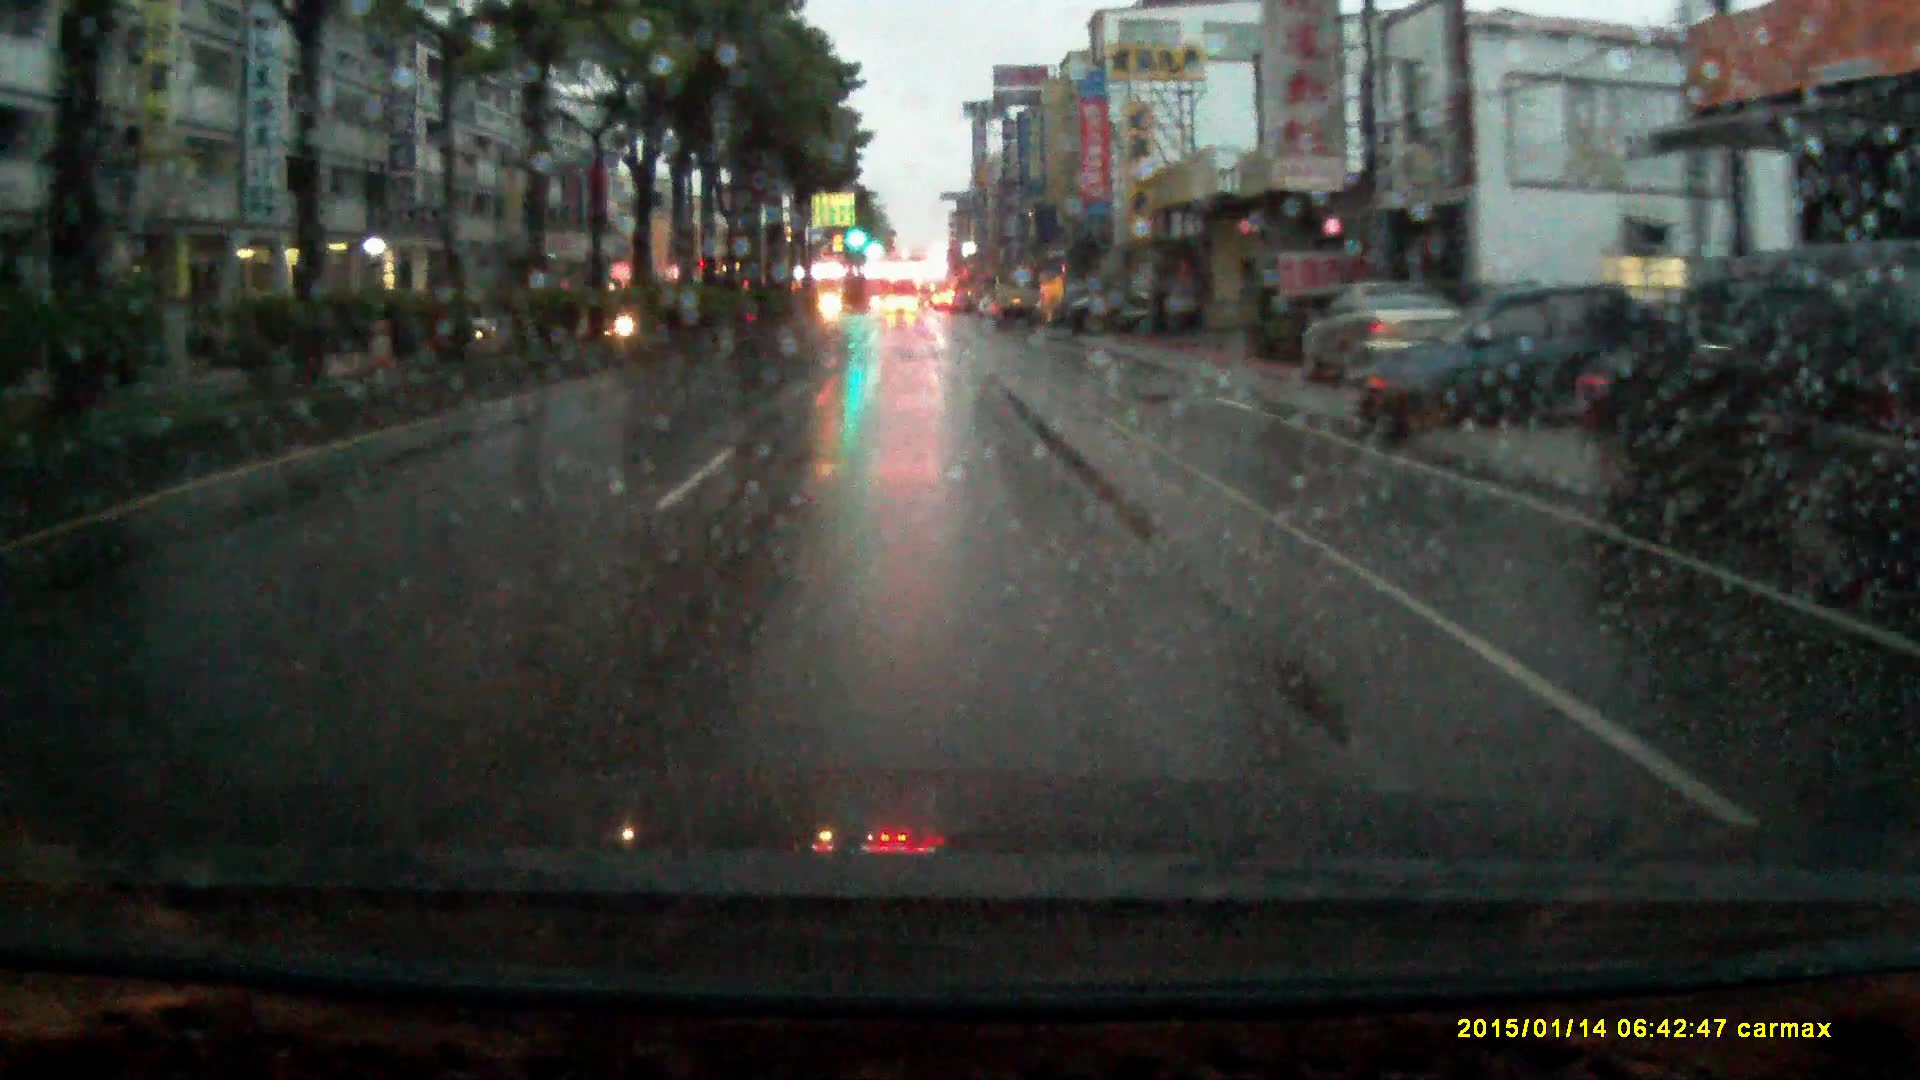vehicle: (1596, 247, 1920, 568), (1350, 285, 1716, 440), (1292, 284, 1468, 393), (1047, 291, 1193, 338), (992, 286, 1038, 334), (886, 298, 919, 320)
